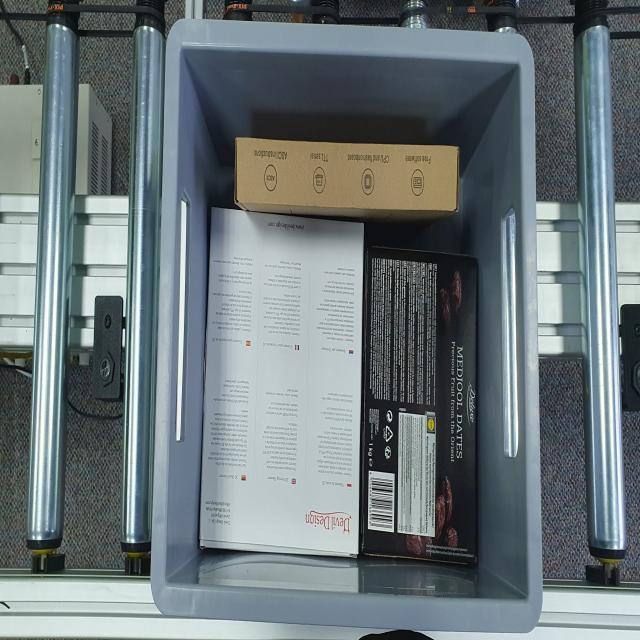box: (196, 209, 360, 559), (364, 250, 478, 570), (232, 136, 460, 220)
